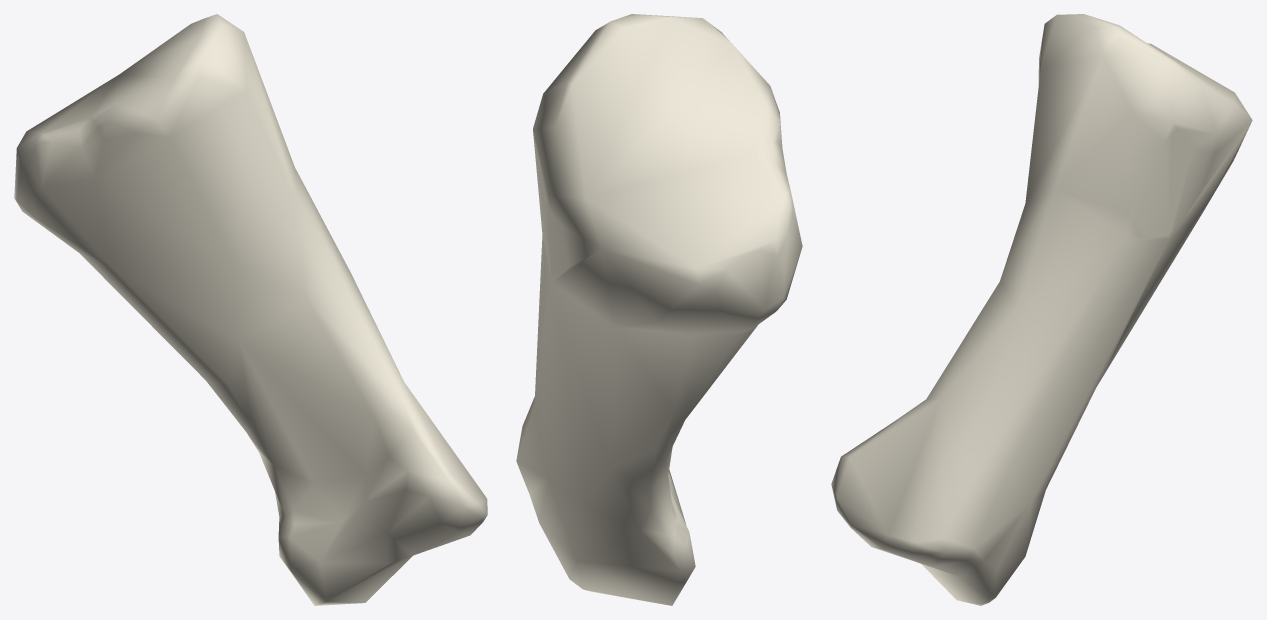
3 views of the same model, side by side, from view 1: azimuth 30°, elevation 25°; view 2: azimuth 150°, elevation 25°; view 3: azimuth 270°, elevation 25° (orthographic). The views are drawn at different scales.
Visible parts, largest first — view 1: ZA_9e49555b8e923192; view 2: ZA_9e49555b8e923192; view 3: ZA_9e49555b8e923192.
Part boxes in pixels (box(x1,y1,x2,y2)): ZA_9e49555b8e923192: box(14, 14, 487, 605); ZA_9e49555b8e923192: box(516, 14, 802, 605); ZA_9e49555b8e923192: box(831, 14, 1252, 605).
Bounding box in the file's own units: 0.0209 × 0.0325 × 0.023.
